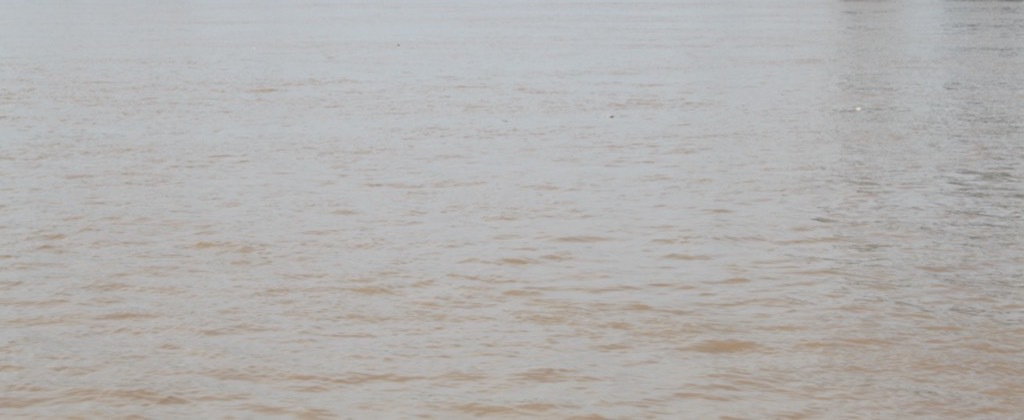plastic: (844, 97, 881, 126), (591, 102, 626, 130)
